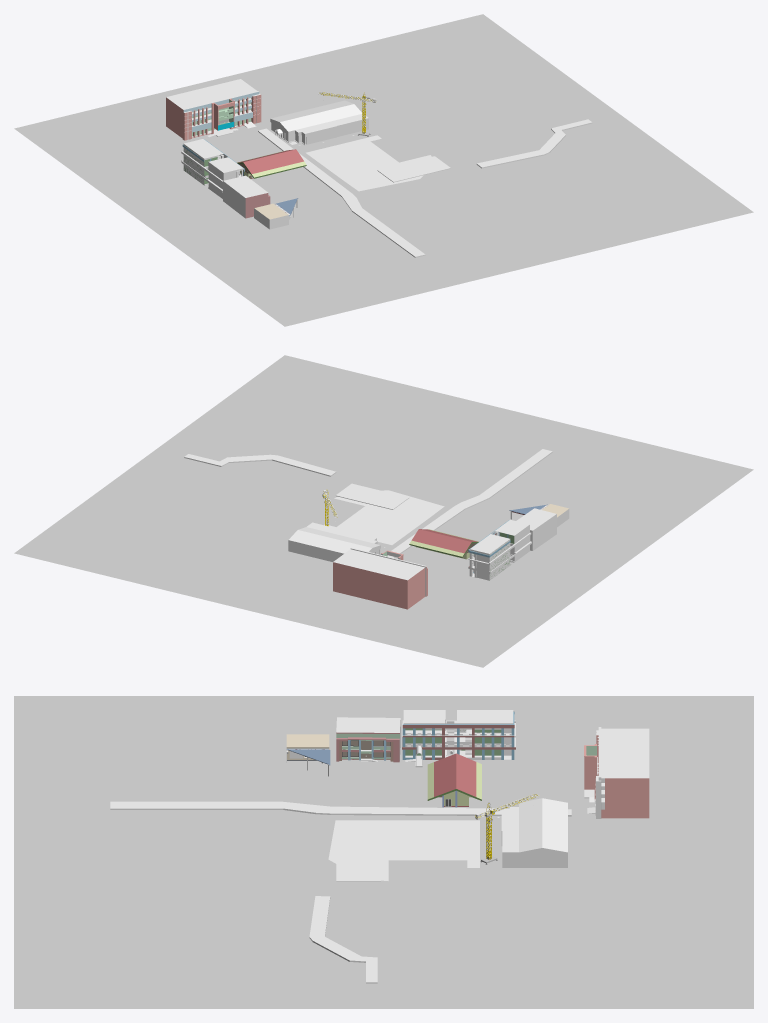
File: map.gltf
The picture shows the model from 3 angles, top to bottom: view 1: azimuth 30°, elevation 25°; view 2: azimuth 150°, elevation 25°; view 3: azimuth 270°, elevation 25°; orthographic projection. The views are drawn at different scales.
Parts seen in each view (by area): view 1: image_0, instance_171, instance_154, instance_151, SketchUp, instance_146, instance_148, SketchUp.002, SketchUp.001, instance_145.010; view 2: image_0, instance_171, instance_151.001, instance_154, instance_146, instance_151, SketchUp, SketchUp.002, instance_148, SketchUp.001, instance_145.010; view 3: image_0, instance_171, instance_154, instance_146, SketchUp, instance_151, instance_151.001, SketchUp.002, SketchUp.001, instance_145.010, instance_148, instance_150.001 (+1 smaller).
Part boxes in pixels (bbox=[...]): image_0: bbox=[14, 14, 753, 326]; instance_171: bbox=[306, 135, 431, 191]; instance_154: bbox=[270, 100, 368, 144]; instance_151: bbox=[166, 79, 260, 137]; SketchUp: bbox=[258, 128, 425, 257]; instance_146: bbox=[181, 139, 243, 198]; instance_148: bbox=[223, 175, 267, 218]; SketchUp.002: bbox=[377, 156, 450, 182]; SketchUp.001: bbox=[476, 119, 592, 168]; instance_145.010: bbox=[237, 149, 303, 173]; image_0: bbox=[14, 355, 753, 667]; instance_171: bbox=[324, 490, 444, 544]; instance_151.001: bbox=[333, 562, 425, 609]; instance_154: bbox=[288, 522, 380, 561]; instance_146: bbox=[468, 519, 531, 580]; instance_151: bbox=[333, 548, 426, 596]; SketchUp: bbox=[387, 449, 552, 558]; SketchUp.002: bbox=[335, 483, 408, 509]; instance_148: bbox=[516, 508, 556, 550]; SketchUp.001: bbox=[184, 454, 336, 476]; instance_145.010: bbox=[411, 529, 477, 553]; image_0: bbox=[14, 696, 753, 1008]; instance_171: bbox=[328, 820, 479, 880]; instance_154: bbox=[501, 798, 567, 867]; instance_146: bbox=[402, 710, 515, 767]; SketchUp: bbox=[110, 801, 571, 816]; instance_151: bbox=[584, 727, 649, 818]; instance_151.001: bbox=[601, 778, 649, 818]; SketchUp.002: bbox=[336, 843, 380, 881]; SketchUp.001: bbox=[309, 896, 377, 983]; instance_145.010: bbox=[434, 753, 476, 796]; instance_148: bbox=[336, 717, 400, 762]; instance_150.001: bbox=[286, 734, 329, 759].
Size of the model in its own units: 129 by 12 by 129.
